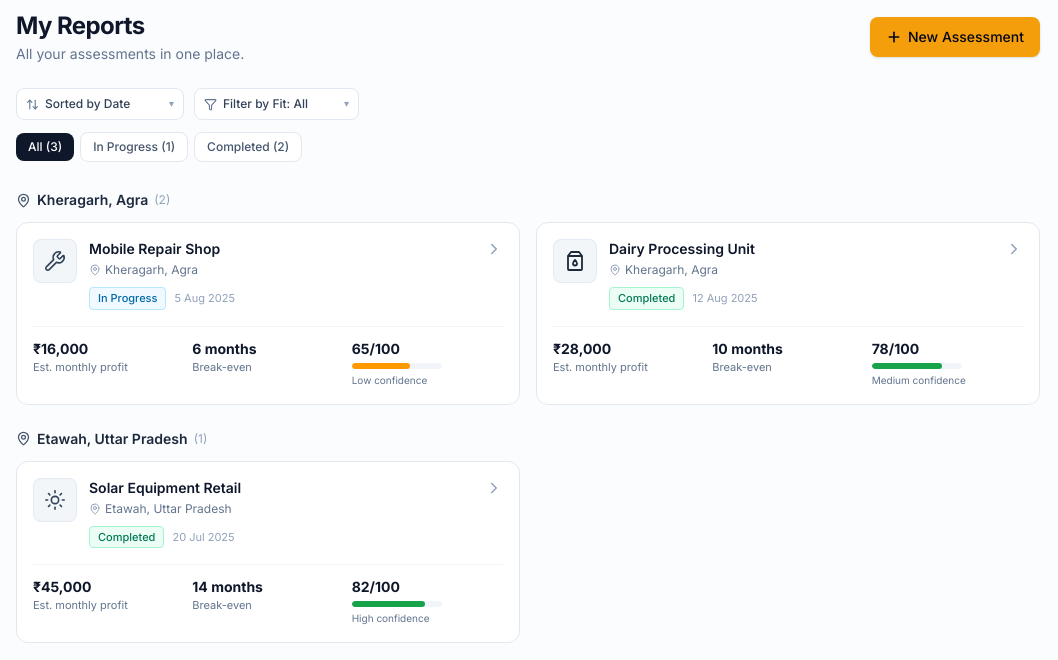
Test: MyReportsScreen › filters by fit score dropdown
Select "High Fit (≥70)" in the dropdown named "Filter by fit score" at (276, 104), box [194,88,359,120]
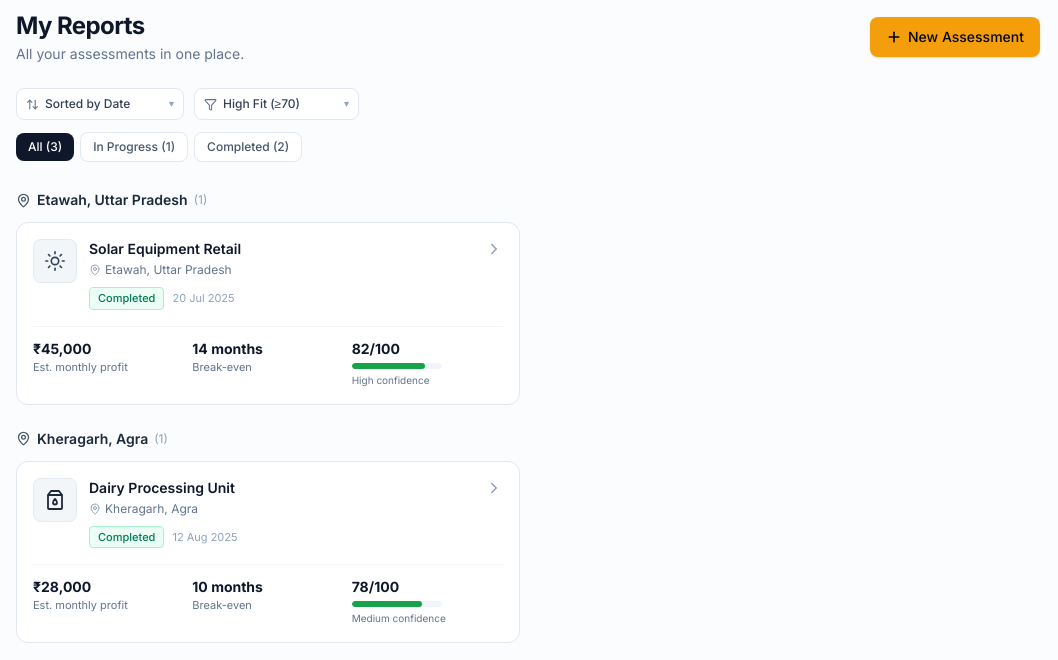
Expected: the heading "Dairy Processing Unit" is shown, [89,478,235,498]
Expected: the link "Mobile Repair Shop" is gone
